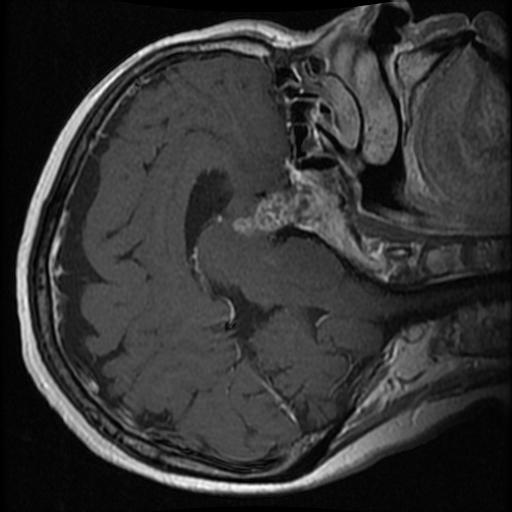pituitary tumour: (235, 189, 317, 236)
